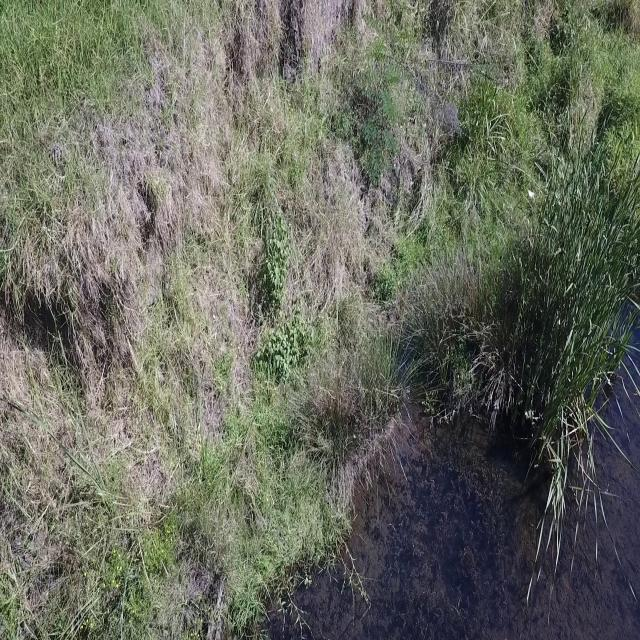Mysore-Thorn-Weed: (364, 37, 400, 187)
